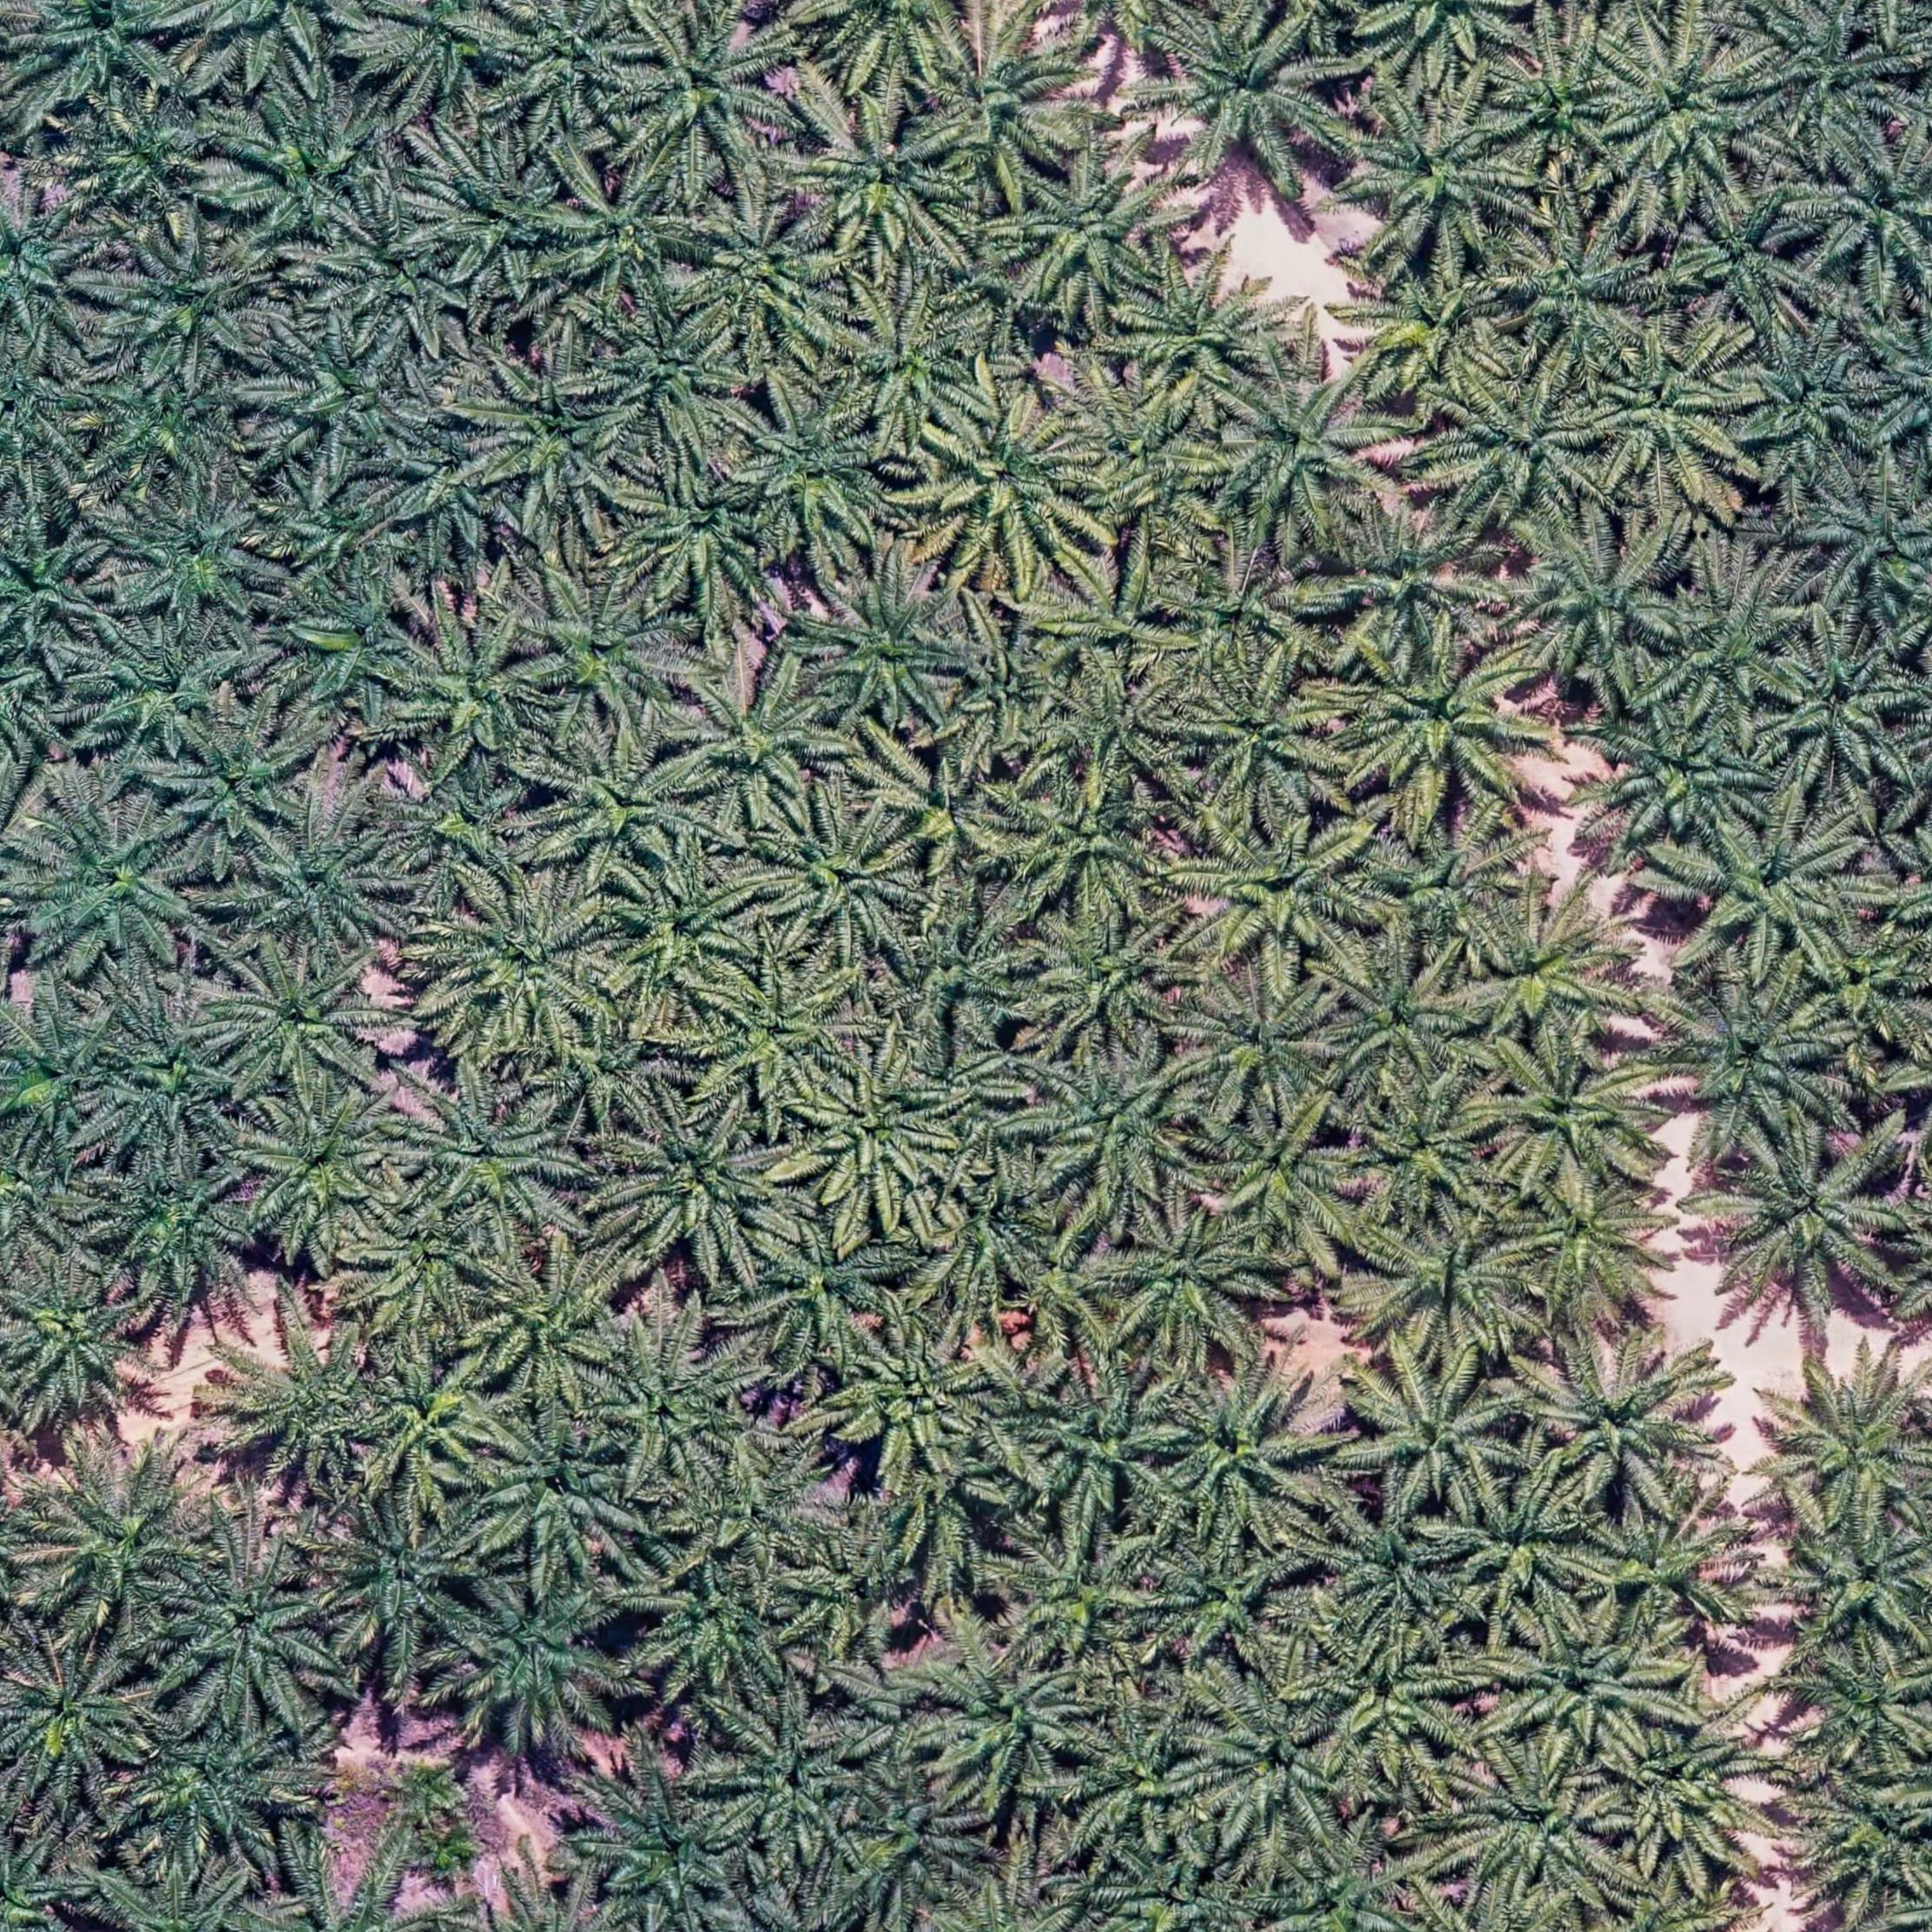palmtree: (1706, 1120, 1918, 1320), (1330, 635, 1545, 821), (1516, 1322, 1723, 1513), (1168, 801, 1384, 980), (1647, 971, 1847, 1164), (1675, 800, 1884, 984), (1207, 354, 1403, 543), (1154, 7, 1353, 193), (1589, 1707, 1792, 1886), (1484, 1599, 1688, 1776), (446, 1566, 640, 1750), (1155, 1361, 1341, 1548), (1578, 686, 1780, 858), (1341, 92, 1529, 274), (612, 1099, 805, 1276), (936, 387, 1109, 584), (1189, 1674, 1366, 1865), (30, 1451, 218, 1629), (19, 803, 211, 978), (433, 878, 628, 1049), (1596, 27, 1780, 207), (908, 1629, 1097, 1805), (157, 1546, 341, 1725), (1024, 1039, 1212, 1214), (1757, 1350, 1932, 1537), (1348, 1210, 1548, 1371), (869, 892, 1049, 1069), (1442, 1741, 1626, 1914), (1318, 492, 1504, 663), (1479, 1028, 1672, 1192), (1587, 322, 1764, 501), (1509, 520, 1691, 692), (1430, 359, 1612, 531), (1467, 883, 1652, 1051), (920, 9, 1086, 196), (920, 593, 1093, 768), (1753, 628, 1925, 805), (471, 352, 646, 524), (1341, 1350, 1525, 1513), (403, 1077, 587, 1238), (124, 1714, 310, 1874), (1001, 147, 1177, 315), (794, 99, 970, 267), (1573, 1495, 1759, 1652), (471, 1410, 644, 1578), (1299, 1626, 1477, 1789), (1507, 1171, 1688, 1332), (1173, 660, 1353, 821), (835, 1315, 1005, 1484), (235, 1086, 409, 1253), (640, 5, 805, 180), (1102, 1203, 1279, 1366), (223, 1316, 393, 1484), (1019, 1357, 1189, 1525), (322, 1497, 494, 1663), (688, 195, 855, 366), (674, 660, 847, 824), (228, 96, 405, 255), (1499, 209, 1667, 375), (709, 1700, 874, 1870), (582, 1769, 755, 1928), (538, 729, 713, 886), (1316, 945, 1484, 1108), (1198, 1099, 1369, 1258), (1346, 258, 1522, 414), (807, 559, 966, 729), (1118, 258, 1288, 418), (587, 1323, 754, 1484), (111, 225, 281, 382), (796, 1049, 959, 1212), (522, 566, 686, 727), (759, 800, 929, 955), (219, 948, 393, 1100), (747, 1210, 909, 1371), (998, 777, 1171, 927), (1652, 563, 1813, 724), (1744, 4, 1911, 159), (697, 964, 867, 1116), (1437, 1470, 1601, 1626), (637, 1559, 816, 1702), (743, 384, 899, 547), (1341, 1077, 1506, 1231), (998, 1522, 1164, 1674), (1309, 1488, 1476, 1638), (600, 860, 766, 1010), (1182, 971, 1350, 1120), (1021, 902, 1191, 1049), (474, 1254, 637, 1407), (94, 1005, 249, 1162), (1730, 333, 1890, 487), (96, 1152, 262, 1299), (239, 810, 410, 952), (0, 1638, 154, 1796), (423, 136, 580, 290), (5, 1265, 157, 1424), (1373, 814, 1532, 966), (1159, 548, 1330, 688), (630, 460, 786, 614), (258, 327, 423, 472), (119, 485, 285, 628), (76, 616, 244, 757), (357, 1343, 510, 1497), (678, 1438, 846, 1576), (1067, 1711, 1224, 1858), (395, 621, 557, 763), (1134, 1537, 1302, 1674), (840, 287, 987, 441), (1069, 377, 1223, 524), (1783, 1507, 1932, 1658), (1799, 465, 1932, 633), (379, 757, 538, 897), (874, 741, 1026, 886), (1799, 133, 1932, 297), (1670, 186, 1821, 331), (1037, 669, 1192, 807), (600, 301, 750, 442), (870, 1445, 1021, 1587), (352, 1198, 504, 1338), (326, 216, 474, 356), (1798, 1764, 1932, 1918), (492, 0, 651, 127), (168, 715, 315, 853), (552, 165, 701, 297), (924, 1166, 1051, 1318), (846, 1775, 984, 1913), (1790, 1637, 1932, 1769), (1042, 554, 1185, 685), (90, 372, 248, 490), (0, 188, 110, 356), (283, 584, 421, 717), (1267, 1828, 1442, 1932), (1495, 42, 1635, 172), (18, 0, 193, 103), (76, 99, 223, 219), (364, 0, 525, 108), (548, 1007, 688, 1129), (1092, 1840, 1270, 1932), (191, 0, 375, 88), (1806, 913, 1932, 1040), (1014, 1223, 1132, 1355), (801, 0, 968, 90), (387, 441, 513, 557), (0, 1016, 115, 1143), (269, 474, 398, 586), (0, 1129, 103, 1267), (1359, 0, 1536, 80), (0, 529, 110, 656), (0, 349, 94, 471)
